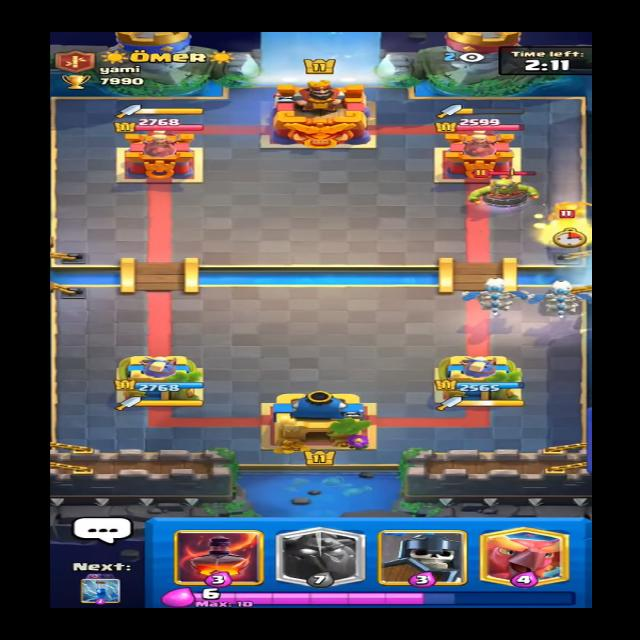Goblindemolisher: (468, 164, 540, 207)
